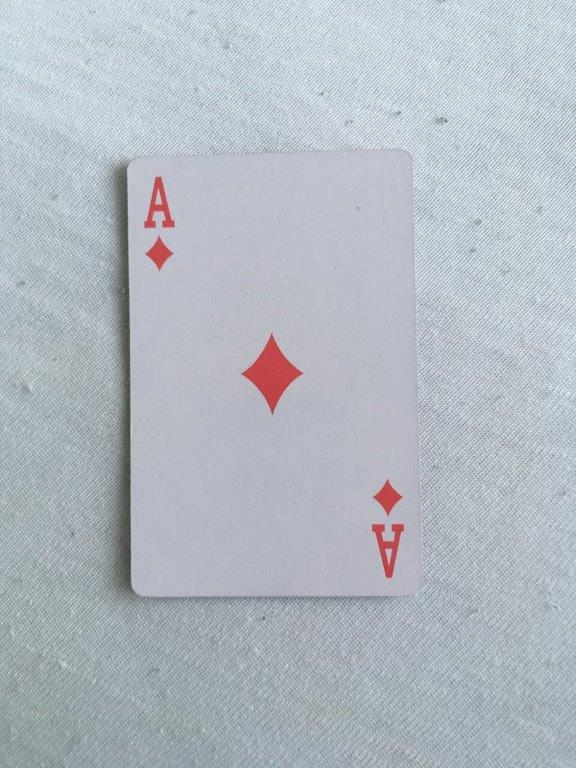AD: (121, 147, 423, 601)
